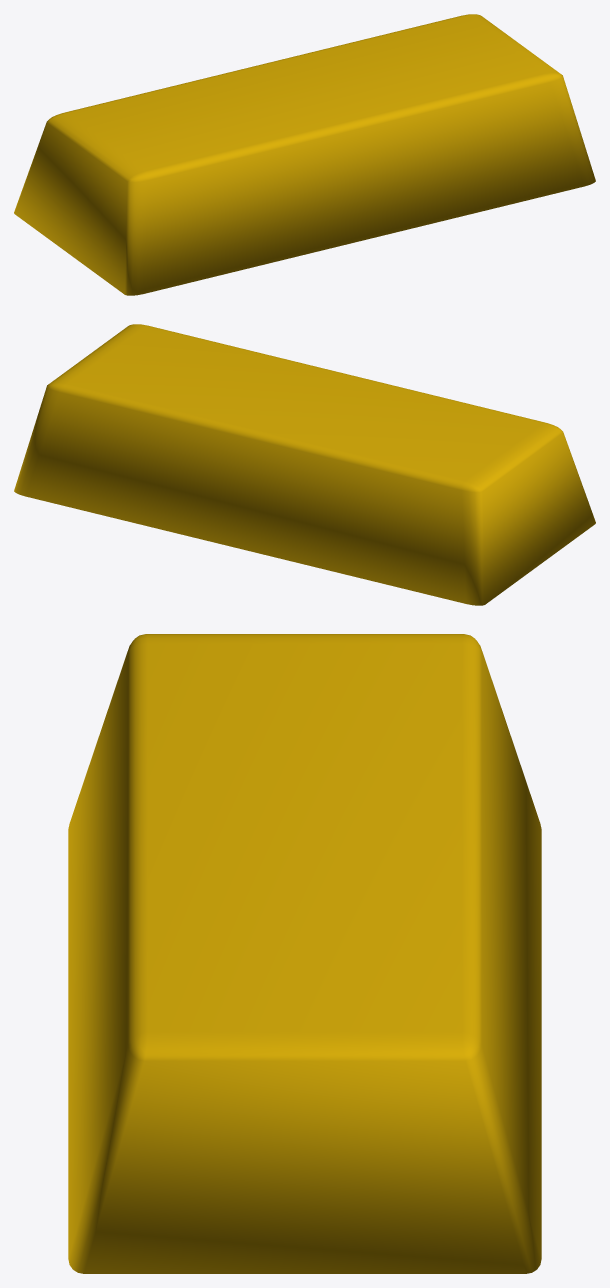
Rendered from lingote.fbx.
The picture shows the model from 3 angles, top to bottom: view 1: azimuth 30°, elevation 25°; view 2: azimuth 150°, elevation 25°; view 3: azimuth 270°, elevation 25°; orthographic projection. The views are drawn at different scales.
Parts seen in each view (by area): view 1: Lingote1; view 2: Lingote1; view 3: Lingote1.
Boxes of the visible parts, x1,y1,x2,y2 form: Lingote1: (14, 14, 595, 295); Lingote1: (14, 324, 595, 605); Lingote1: (68, 634, 541, 1273).
Bounding box in the file's own units: 5971 × 1251 × 2599.
